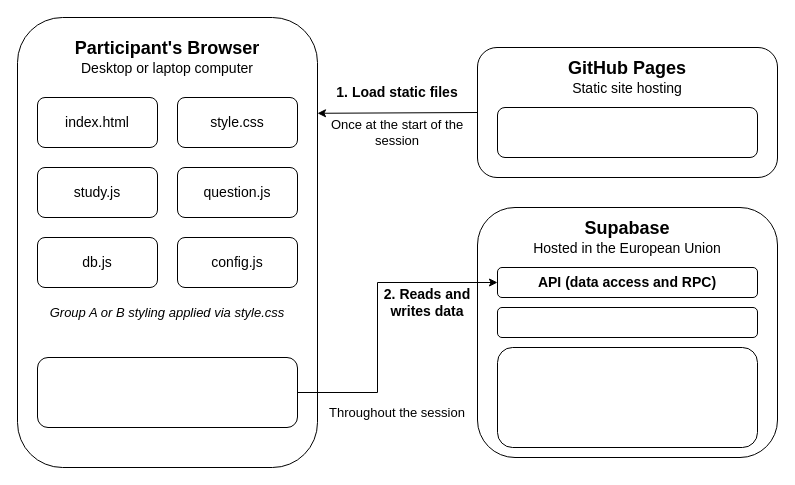
Some shapes in this 795 by 485 pixel diagram are drawn without their labels. Here are the shapes that lost their labels. From the top down, the box of each, then its label:
(496, 106, 758, 158): GitHub repository: Code and images
(496, 306, 758, 338): Row Level Security (RLS)
(36, 356, 298, 428): Supabase Client Library used by db.js
(496, 346, 758, 448): PostgreSQL database participants answers assignment_counter assign_group()
